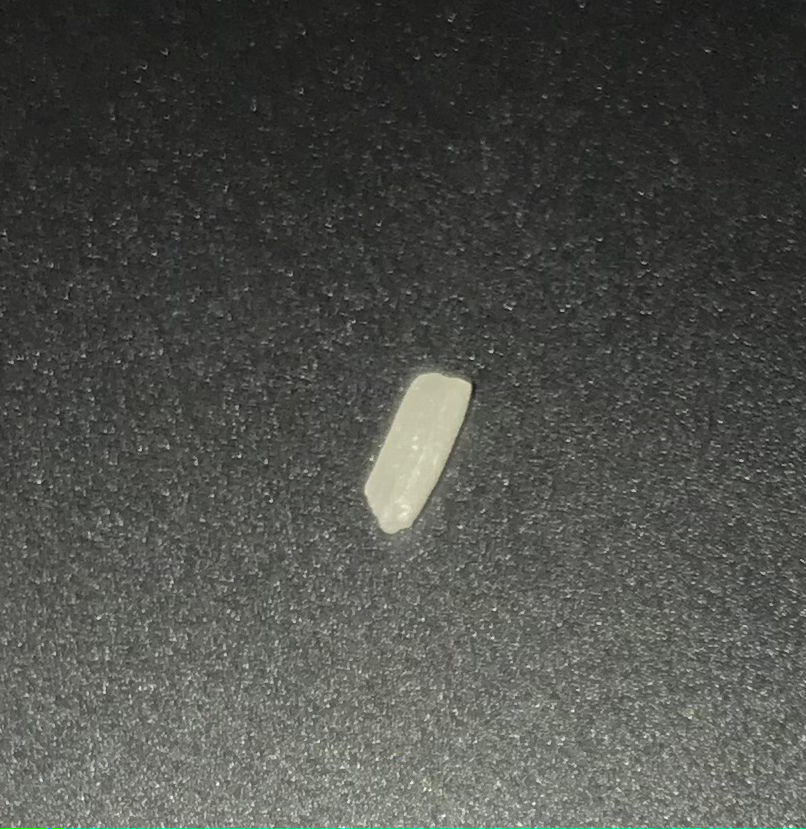Gao Tam Thom: (368, 356, 493, 541)
